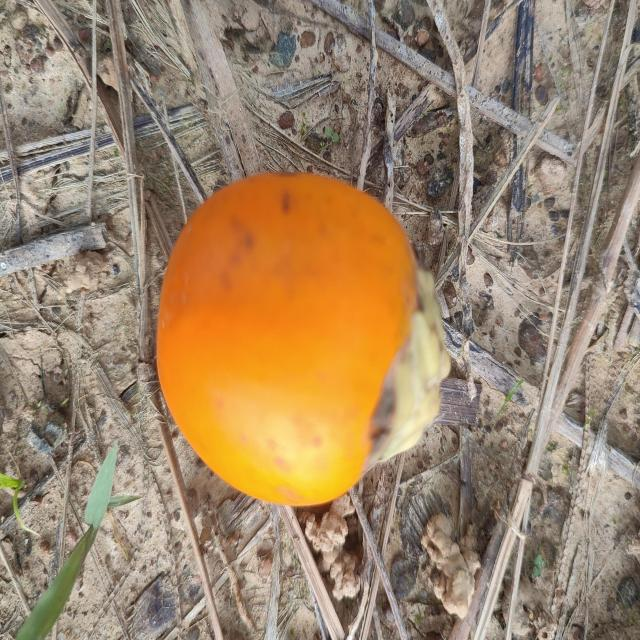good: (155, 172, 452, 509)
